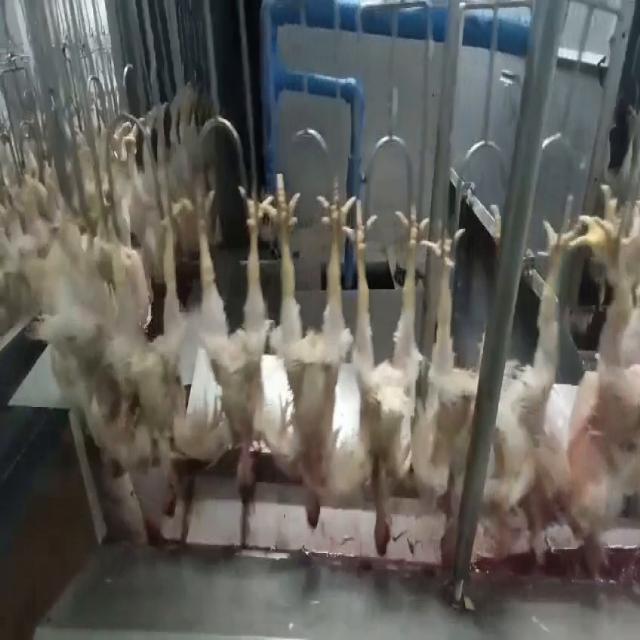chicken: (489, 186, 574, 574), (566, 180, 640, 578), (270, 170, 350, 529), (130, 175, 207, 522), (354, 203, 425, 560), (200, 172, 268, 509), (415, 216, 466, 516)
